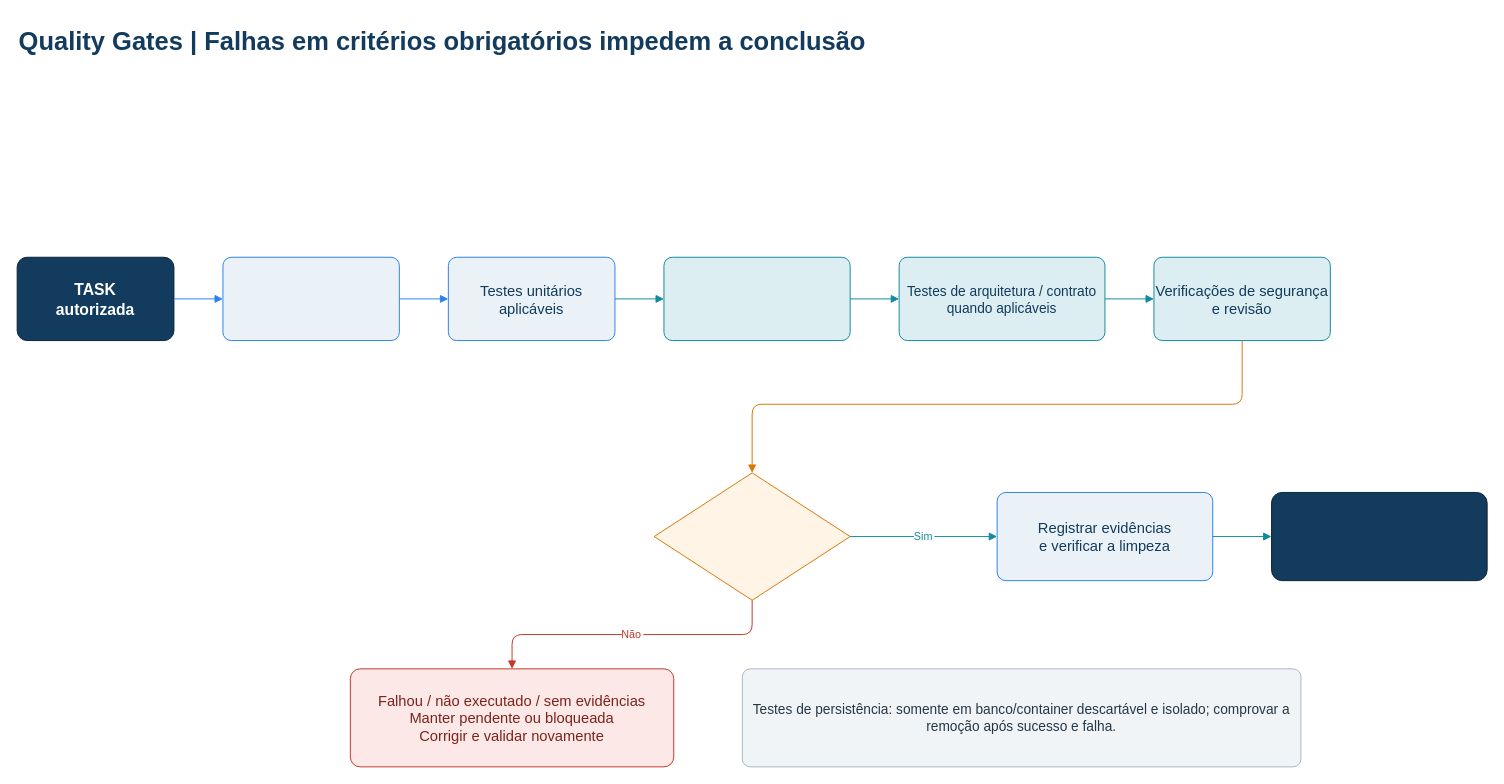
Image size: 1504x784. Some labels were removed from this diagram. The shapes that lost their labels are listed below. From the top down, each one's centre as x and y in pixels, then its label:
At point (310, 298): "Implementação futura no escopo autorizado".
At point (756, 298): "Testes de integração quando aplicáveis".
At point (751, 536): "Todos os critérios obrigatórios passaram?".
At point (1379, 536): "TASK concluída somente após validação".
